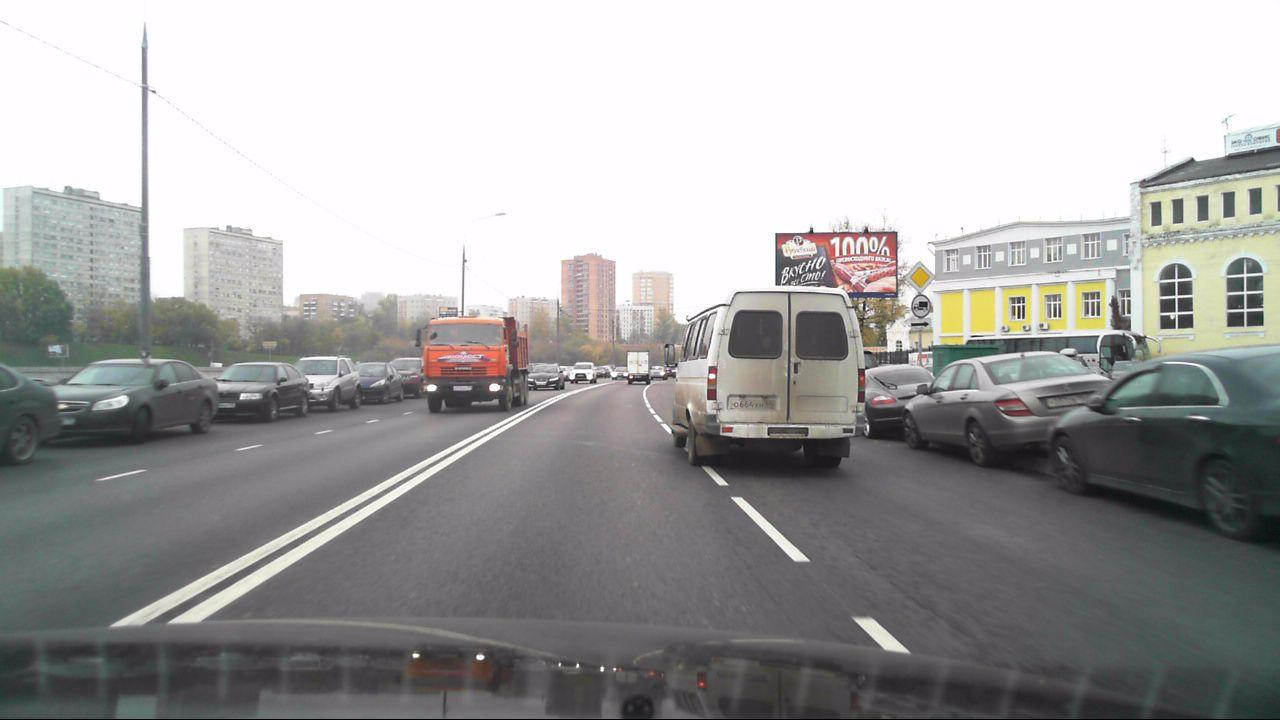road_sign: (904, 261, 936, 293), (911, 295, 932, 317), (910, 317, 932, 330)
